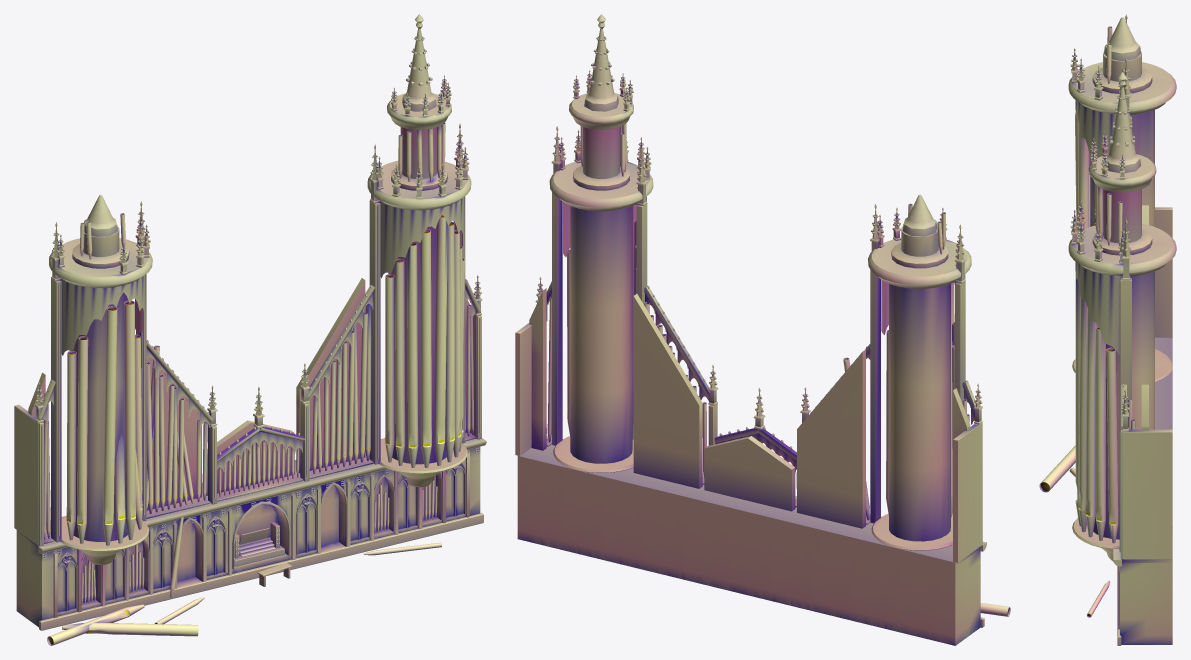
Rendered from organ.glb.
3 views of the same model, side by side, from view 1: azimuth 30°, elevation 25°; view 2: azimuth 150°, elevation 25°; view 3: azimuth 270°, elevation 25° (orthographic). The views are drawn at different scales.
Parts seen in each view (by area): view 1: organ, organ_fallen; view 2: organ; view 3: organ, organ_fallen.
Boxes of the visible parts, <box> form: organ: <box>14,14,486,630</box>; organ_fallen: <box>47,517,441,645</box>; organ: <box>515,14,986,645</box>; organ: <box>1068,14,1176,645</box>; organ_fallen: <box>1039,445,1109,617</box>.
Bounding box in the file's own units: 22.72 × 25.49 × 5.74.
